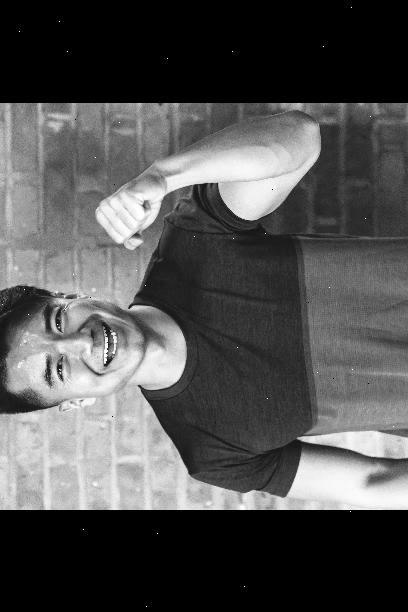Rock: (90, 164, 172, 254)
